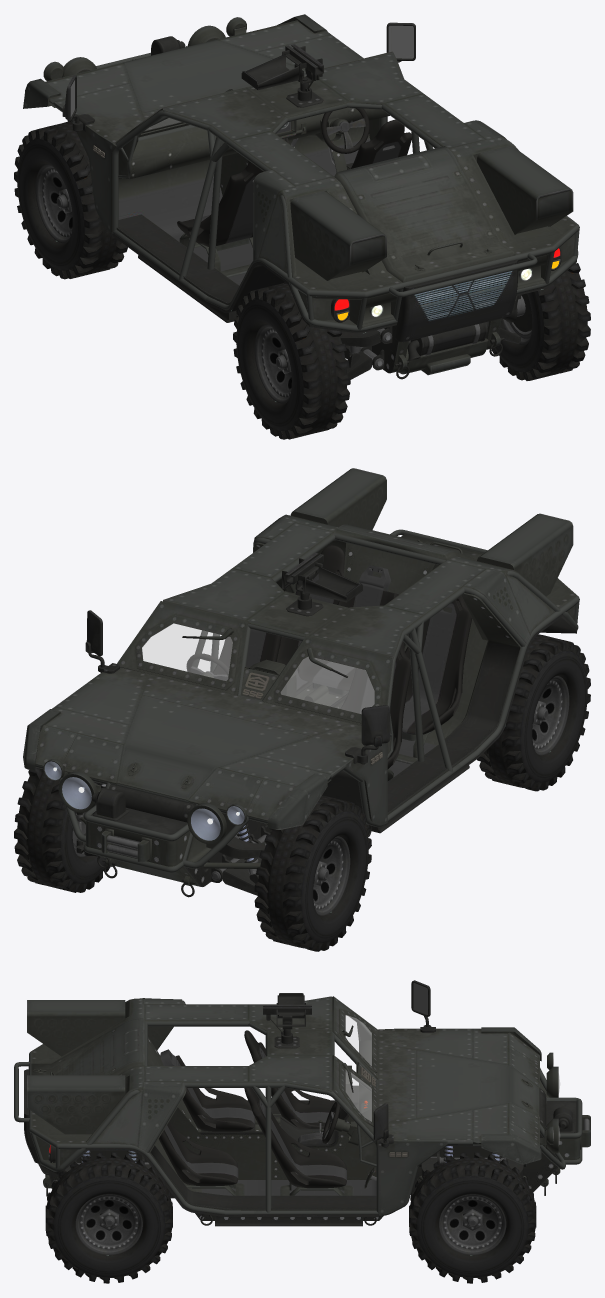
Rendered from SUP_apc_at6.glb.
3 views of the same model, one above another, from view 1: azimuth 30°, elevation 25°; view 2: azimuth 150°, elevation 25°; view 3: azimuth 270°, elevation 25° (orthographic). The views are drawn at different scales.
Parts seen in each view (by area): view 1: SUP_apc_at6; view 2: SUP_apc_at6; view 3: SUP_apc_at6.
Boxes of the visible parts, left/top/right/bottom form: SUP_apc_at6: left=14, top=14, right=590, bottom=439; SUP_apc_at6: left=14, top=468, right=590, bottom=951; SUP_apc_at6: left=14, top=980, right=590, bottom=1283.
Size of the model in its own units: 2.24 by 1.75 by 4.14.
4 materials, 3 textured.
